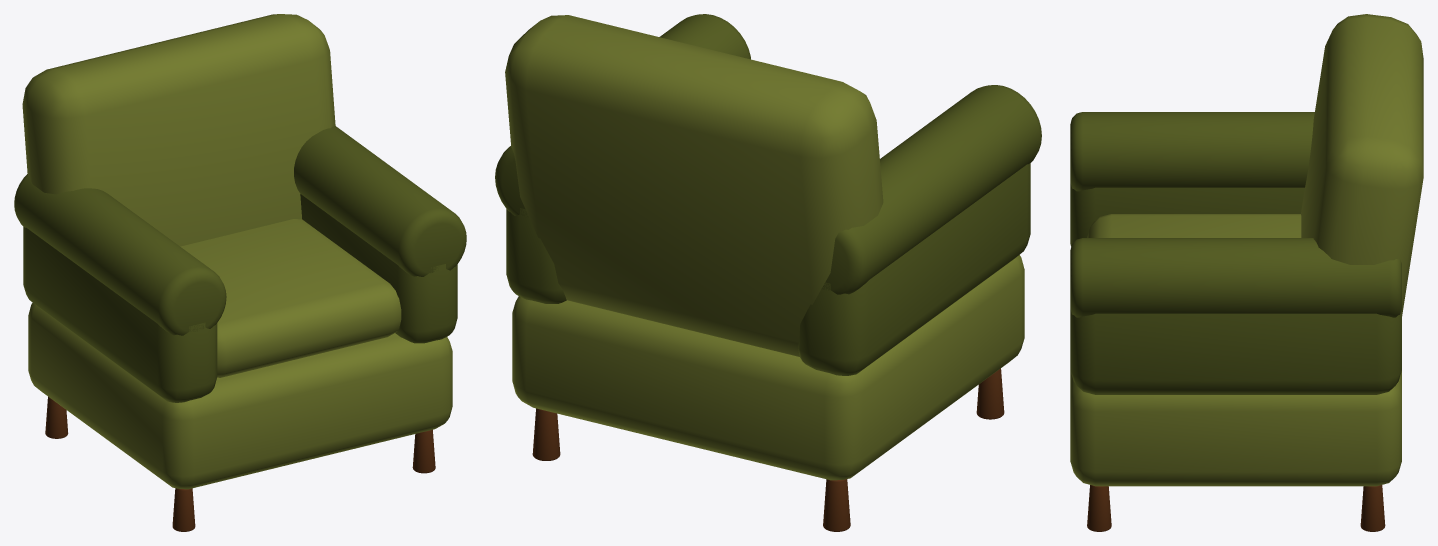
The model's file is armchair.glb.
3 views of the same model, side by side, from view 1: azimuth 30°, elevation 25°; view 2: azimuth 150°, elevation 25°; view 3: azimuth 270°, elevation 25° (orthographic). The views are drawn at different scales.
Parts seen in each view (by area): view 1: armchair; view 2: armchair; view 3: armchair.
Part boxes in pixels (bbox=[...]): armchair: bbox=[14, 14, 466, 531]; armchair: bbox=[495, 14, 1041, 531]; armchair: bbox=[1070, 14, 1423, 531].
Bounding box in the file's own units: 0.92 × 1.03 × 0.8522.
